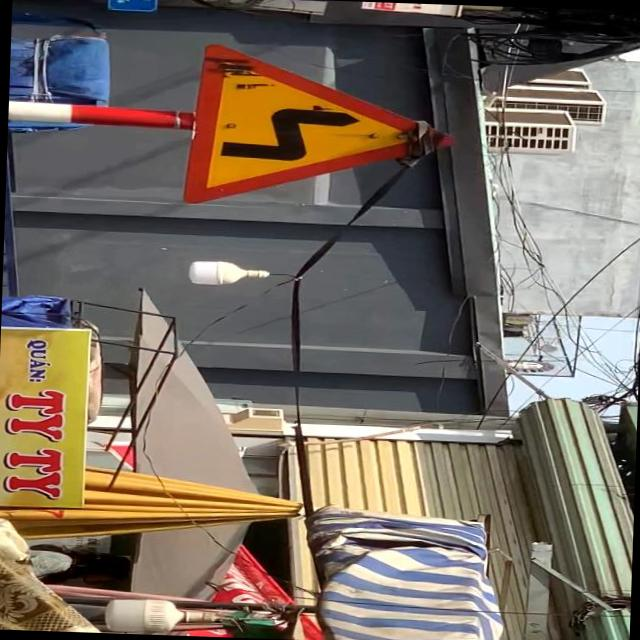W-202a: (182, 45, 456, 212)
